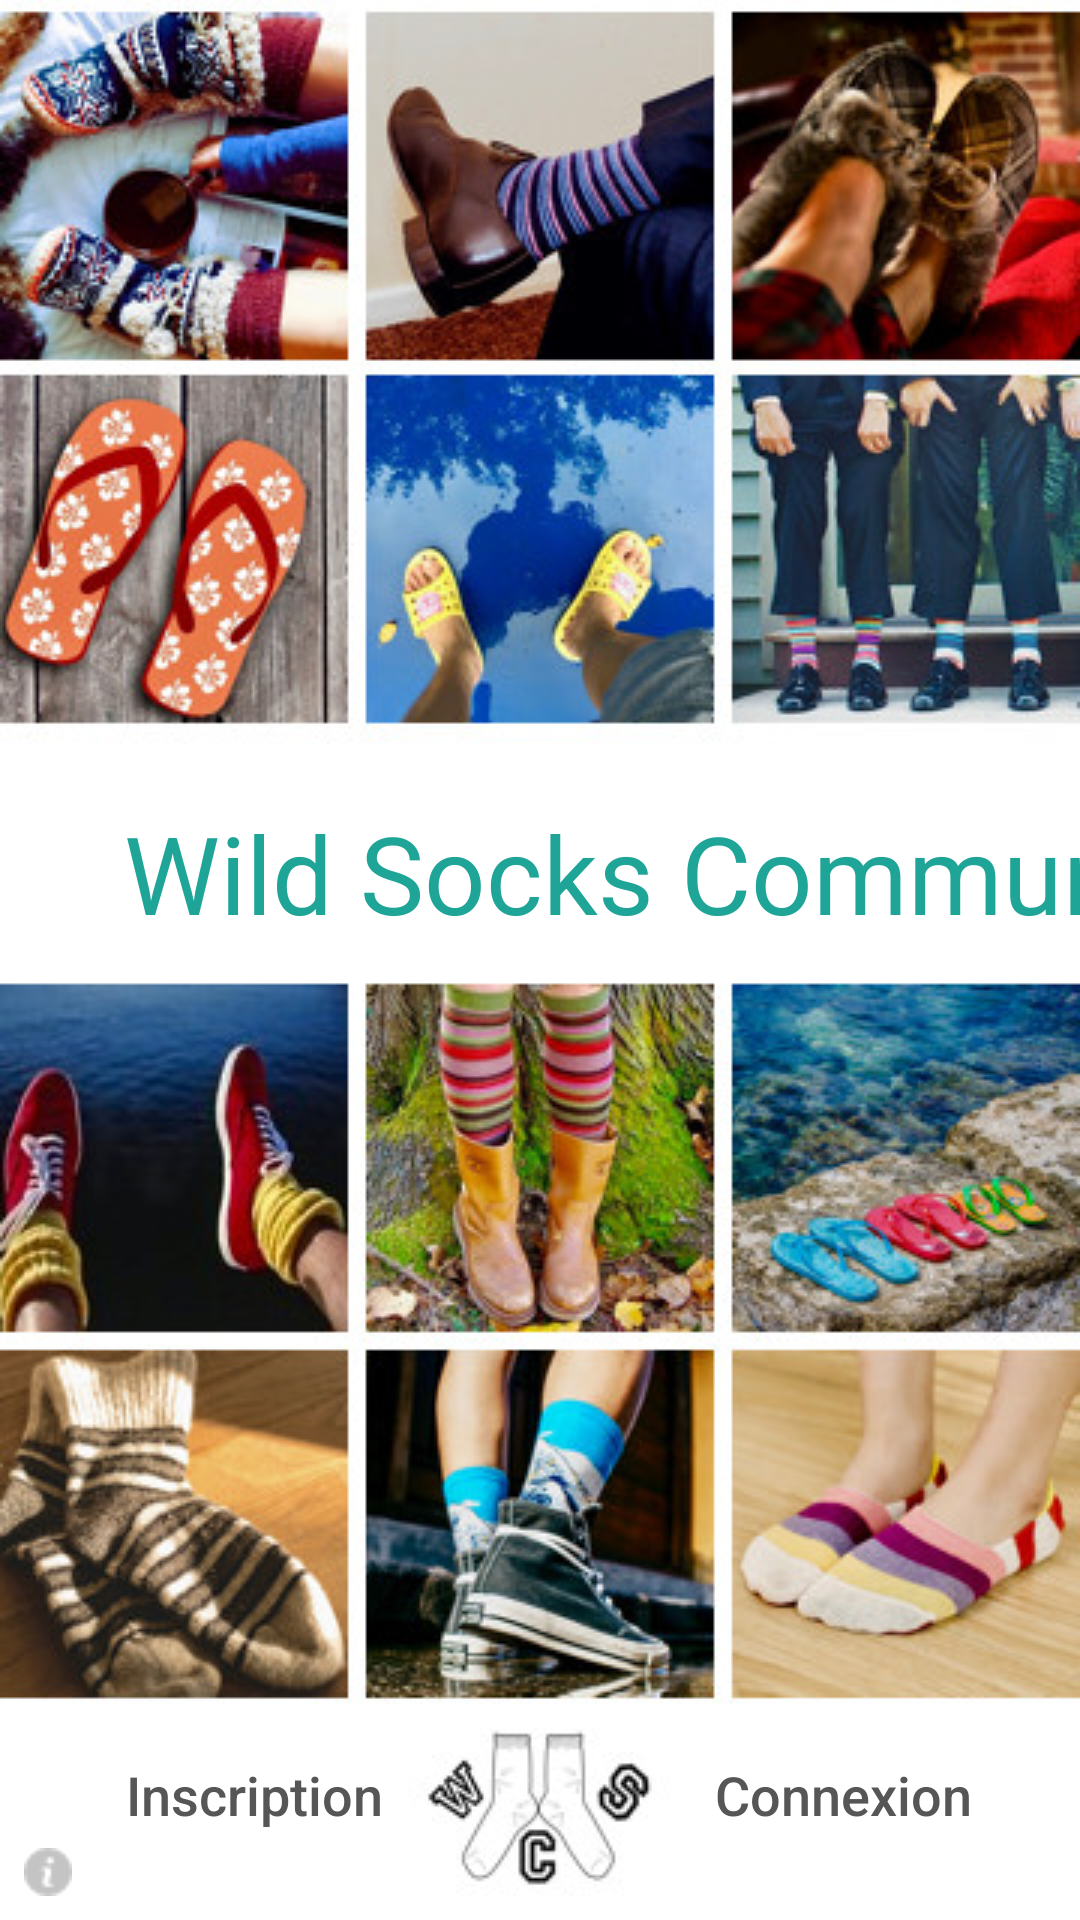

Where icons sit on this 1080*1920 app screen, as bbox=(x1, y1, x2, y2):
info: bbox=(24, 1848, 72, 1896)
